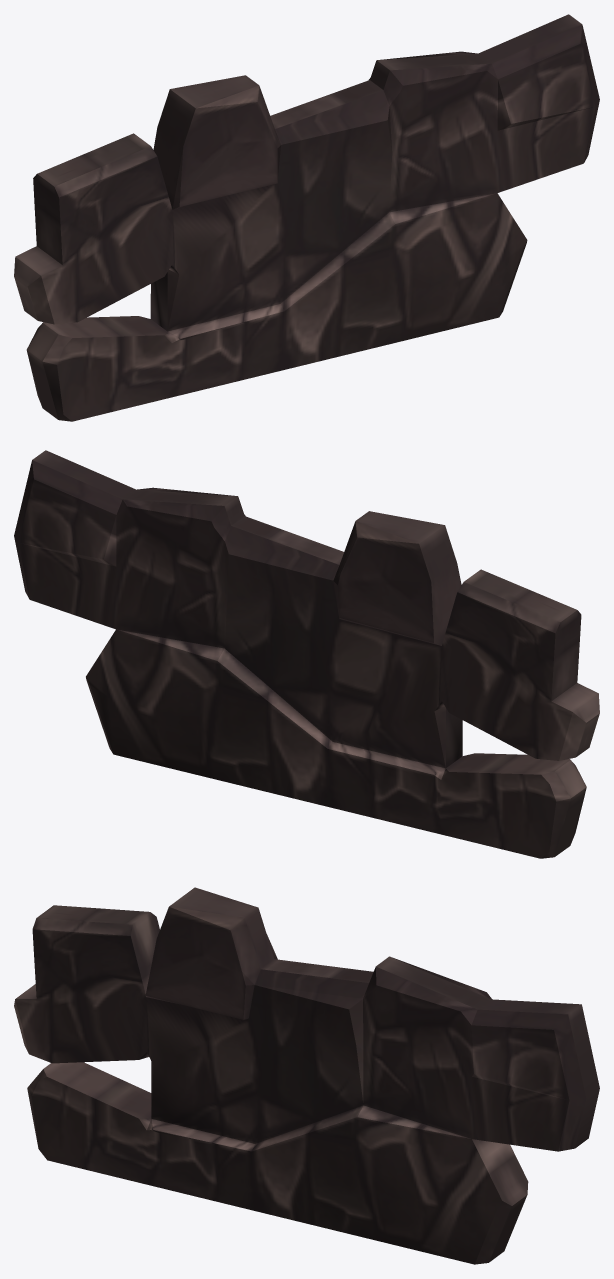
Rendered from rock_21.fbx.
3 views of the same model, one above another, from view 1: azimuth 30°, elevation 25°; view 2: azimuth 150°, elevation 25°; view 3: azimuth 330°, elevation 25° (orthographic).
Visible parts, largest first — view 1: rock_21; view 2: rock_21; view 3: rock_21.
Part boxes in pixels (box(x1,y1,x2,y2)): rock_21: box(14, 14, 599, 421); rock_21: box(14, 450, 599, 858); rock_21: box(14, 887, 599, 1264).
Size of the model in its own units: 6.13 by 2.93 by 0.7369.
